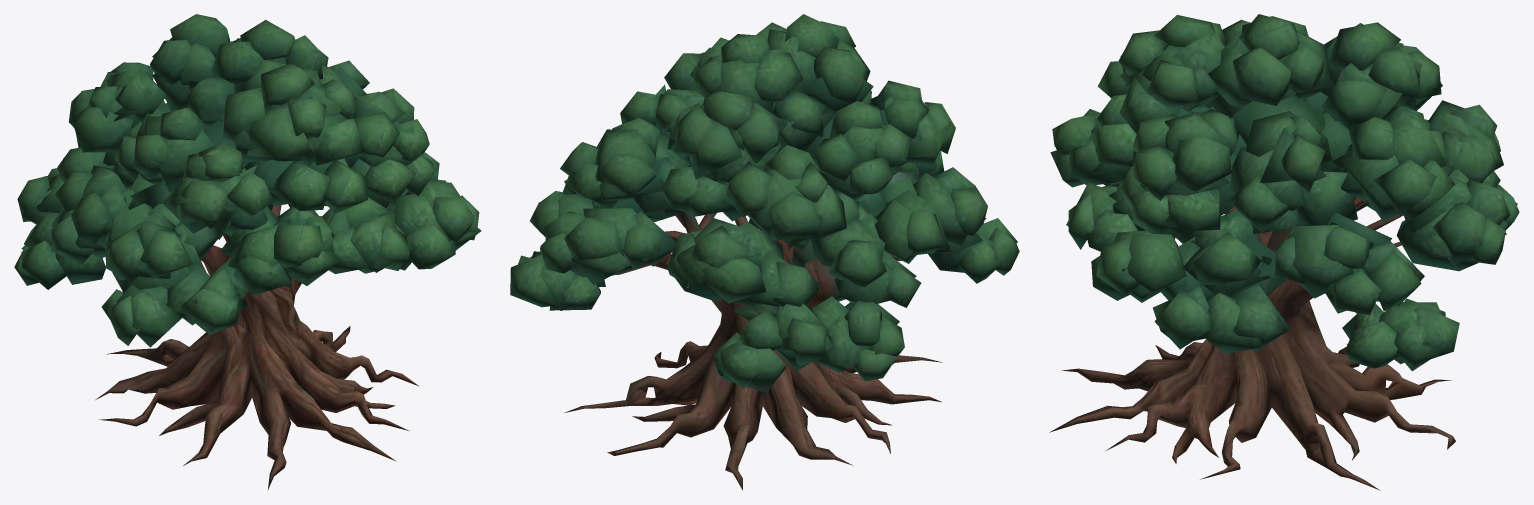
Rendered from decor_tree_oak_grand.glb.
3 renders of one model, left to right at view 1: azimuth 30°, elevation 25°; view 2: azimuth 150°, elevation 25°; view 3: azimuth 270°, elevation 25°, orthographic. The views are drawn at different scales.
Parts seen in each view (by area): view 1: decor_tree_oak_grand; view 2: decor_tree_oak_grand; view 3: decor_tree_oak_grand.
Boxes of the visible parts, <box> form: decor_tree_oak_grand: <box>14,14,481,490</box>; decor_tree_oak_grand: <box>510,14,1019,490</box>; decor_tree_oak_grand: <box>1049,14,1519,490</box>.
Size of the model in its own units: 6.37 by 6 by 6.37.
Materials: 1 (1 with a texture image).
